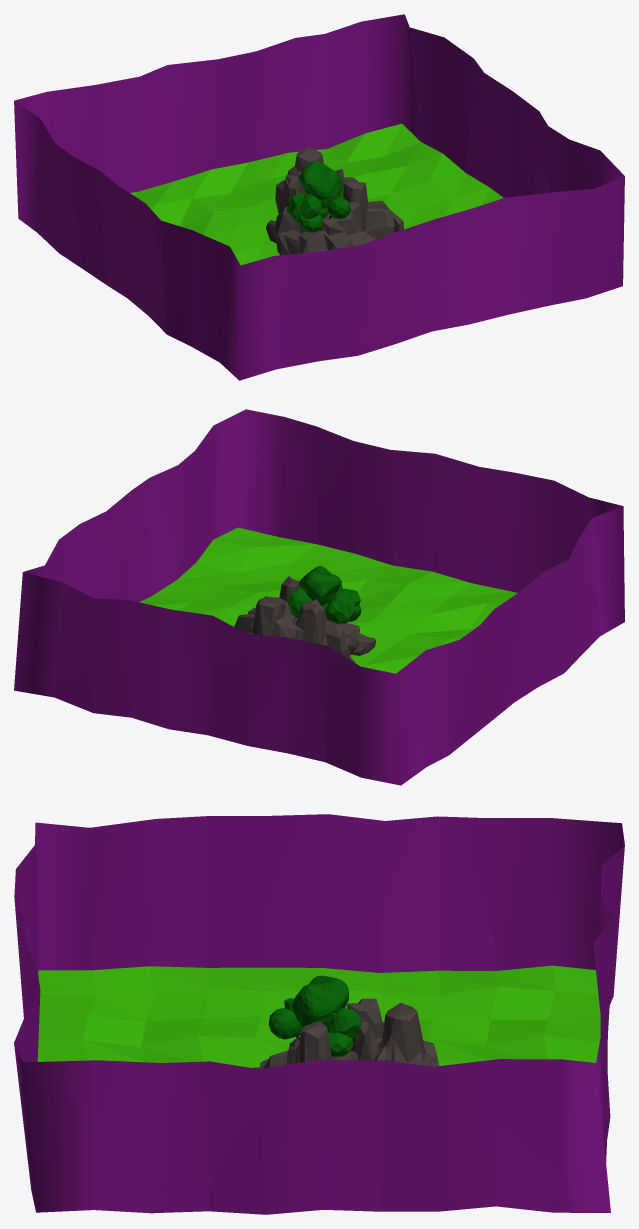
Rendered from Models.FBX.
3 renders of one model, top to bottom at view 1: azimuth 30°, elevation 25°; view 2: azimuth 150°, elevation 25°; view 3: azimuth 270°, elevation 25°, orthographic. The views are drawn at different scales.
Visible parts, largest first — view 1: Walls, Ground, Rock 3, Tree 3, Rock 1, Tree 2; view 2: Walls, Ground, Rock 3, Tree 3, Tree 1, Rock 1; view 3: Walls, Ground, Rock 3, Tree 3, Tree 1.
Part boxes in pixels (<box>): Walls: <box>14,14,624,380</box>; Ground: <box>130,123,503,265</box>; Rock 3: <box>266,147,403,255</box>; Tree 3: <box>298,161,350,232</box>; Rock 1: <box>299,213,373,253</box>; Tree 2: <box>300,183,342,219</box>; Walls: <box>14,409,624,785</box>; Ground: <box>139,527,517,673</box>; Rock 3: <box>234,576,354,658</box>; Tree 3: <box>286,565,361,621</box>; Tree 1: <box>286,588,355,623</box>; Rock 1: <box>337,622,376,662</box>; Walls: <box>14,814,624,1214</box>; Ground: <box>37,965,600,1067</box>; Rock 3: <box>286,998,439,1066</box>; Tree 3: <box>268,975,353,1056</box>; Tree 1: <box>292,1002,361,1037</box>.
Bounding box in the file's own units: 1433 × 425 × 1464.
